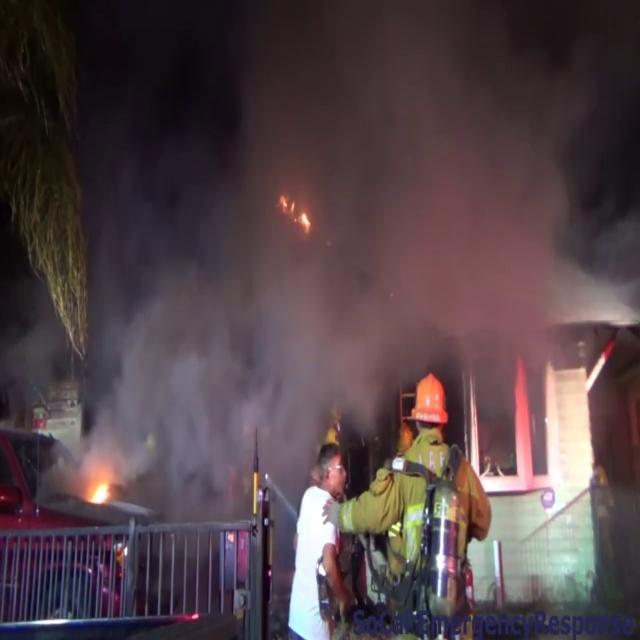Fire: (83, 458, 115, 511)
Smoke: (58, 0, 640, 463)
